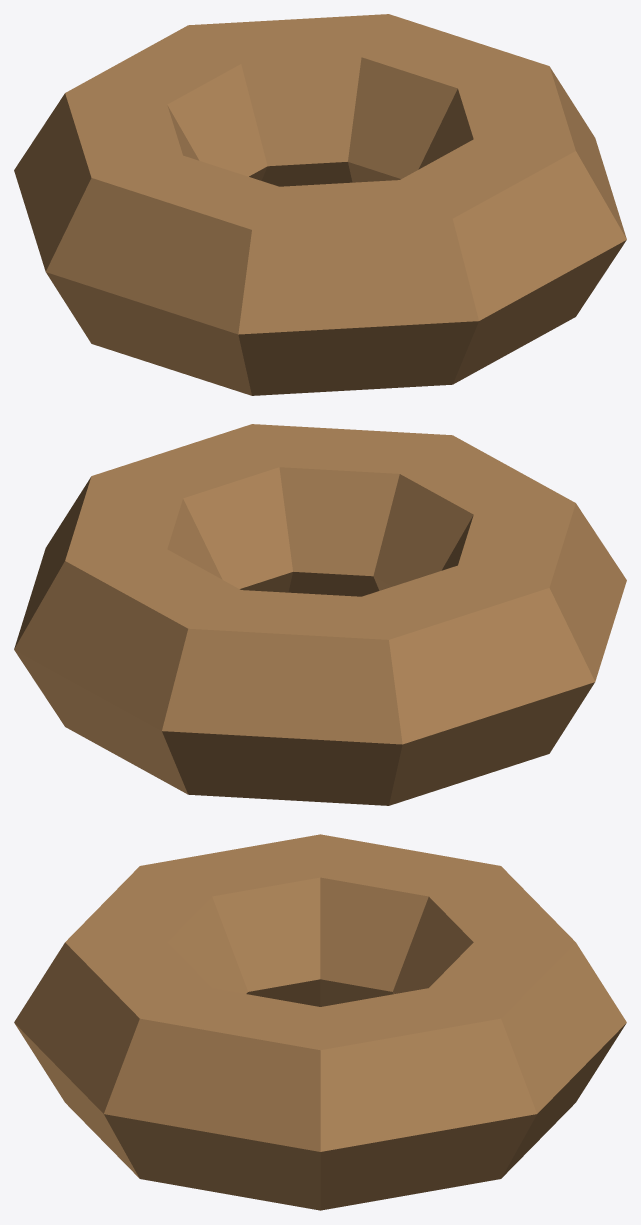
The model's file is doughnut.fbx.
The picture shows the model from 3 angles, top to bottom: view 1: azimuth 30°, elevation 25°; view 2: azimuth 150°, elevation 25°; view 3: azimuth 270°, elevation 25°; orthographic projection. The views are drawn at different scales.
Parts seen in each view (by area): view 1: pTorus1; view 2: pTorus1; view 3: pTorus1.
Boxes of the visible parts, x1,y1,x2,y2 form: pTorus1: [14, 14, 626, 395]; pTorus1: [14, 424, 626, 805]; pTorus1: [14, 834, 626, 1210].
Bounding box in the file's own units: 332 × 95.89 × 332.
